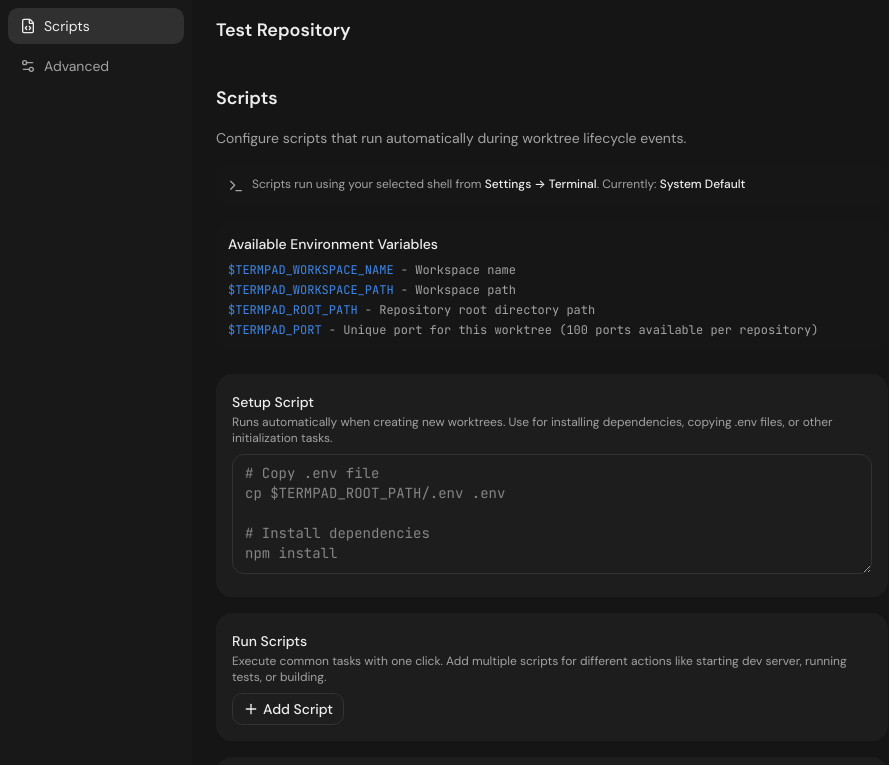
Scenario: RepositorySettingsOverlay › auto-save › auto-saves changes when input value changes
# Make a change
Replace the text in the text box with test id "setup-script-input" with "npm install": (552, 514) [232,454,872,574]
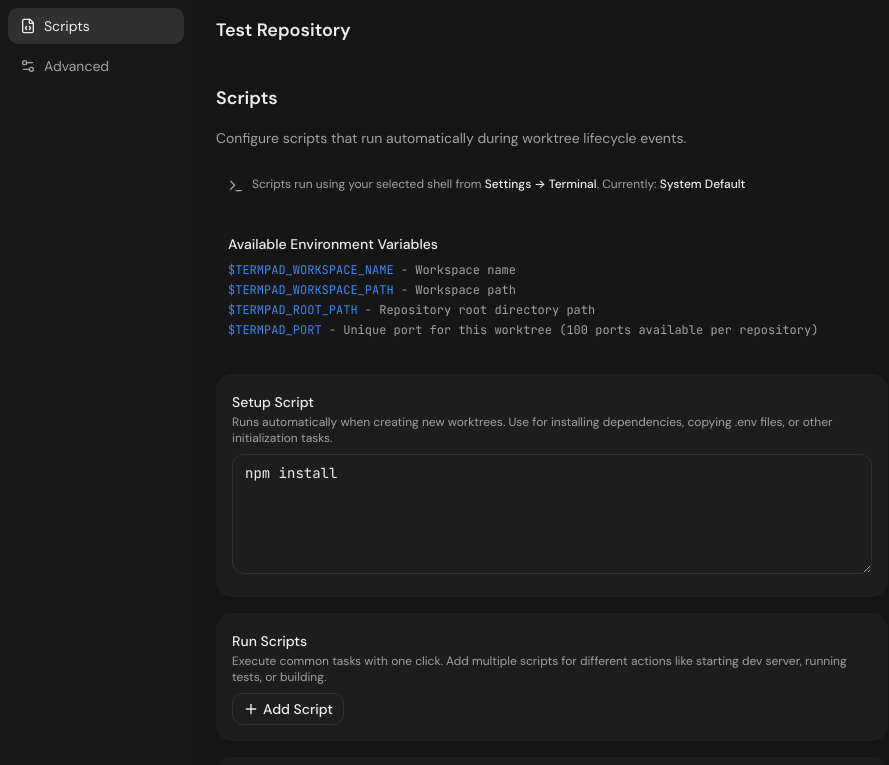
Check: the text "npm install" is shown, box [245,464,337,482]
